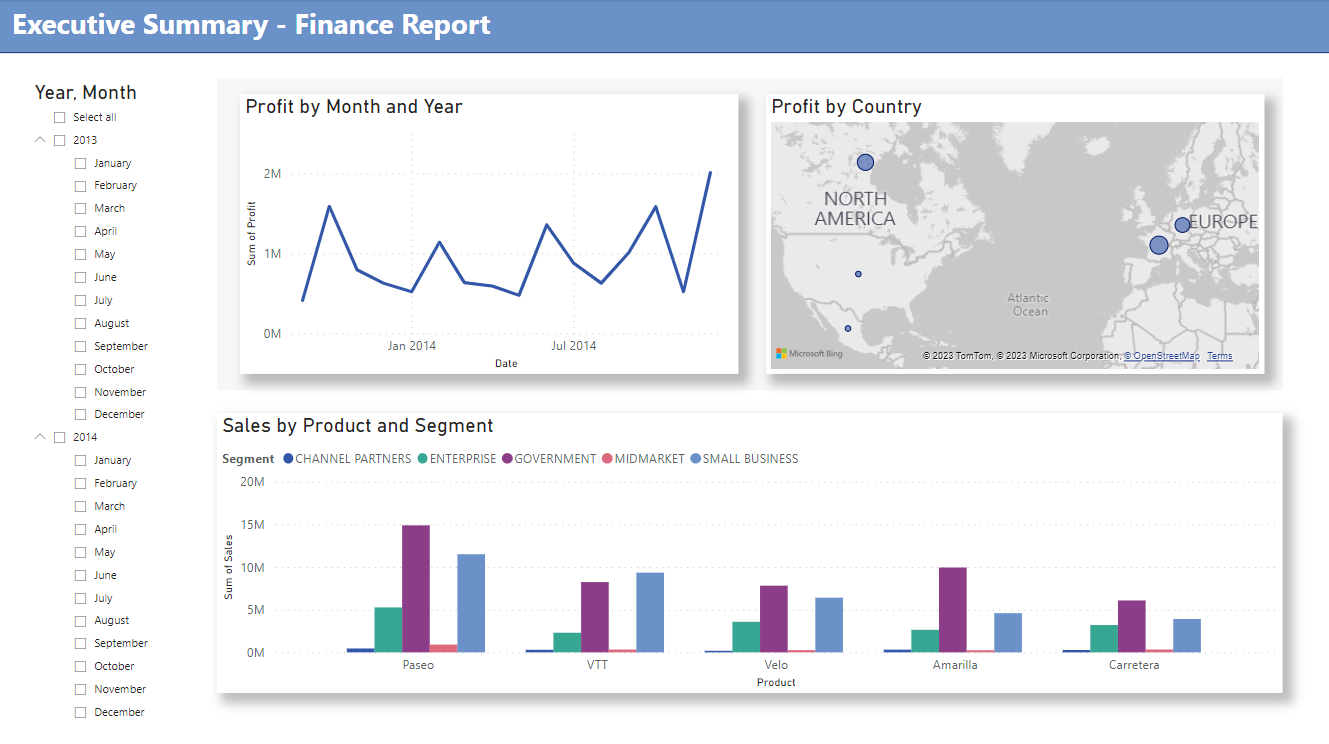

What the dashboard file says about the page in this screenshot:
{"tool":"powerbi","page":{"name":"Page 1","canvas":[1280,720],"ordinal":0},"visuals":[{"type":"shape","box":[209.5,75.9,1024.4,299.8],"z":0},{"type":"shape","box":[0,0,1280,51.9],"z":1000},{"type":"textbox","box":[0,0,1280,51.9],"z":2000},{"type":"lineChart","title":"Profit by Month and Year","fields":{"Category":["Calendar.Date"],"Y":["Sum(financials.Profit)"]},"box":[231.6,91.3,478.6,269.1],"z":3000},{"type":"map","title":"Profit by Country","fields":{"Category":["financials.Country"],"Size":["Sum(financials.Profit)"]},"box":[737.1,91.3,478.6,269.1],"z":4000},{"type":"clusteredColumnChart","title":"Sales by Product and Segment","fields":{"Y":["Sum(financials. Sales)"],"Category":["financials.Product"],"Series":["financials.Segment"]},"box":[209.5,397.8,1024.4,269.1],"z":5000},{"type":"slicer","fields":{"Values":["Calendar.Date.Variation.Date Hierarchy.Year","Calendar.Date.Variation.Date Hierarchy.Month"]},"box":[21.1,73,161.4,634.2],"z":6000}]}

Visuals, with their boxes in screenshot pixels (x1, y1, x2, y2), scaled from the page's 1280x720 canvas onto the 1329x744 screenshot:
shape: {"x1": 218, "y1": 78, "x2": 1281, "y2": 388}
shape: {"x1": 0, "y1": 0, "x2": 1328, "y2": 54}
textbox: {"x1": 0, "y1": 0, "x2": 1328, "y2": 54}
"Profit by Month and Year" lineChart: {"x1": 240, "y1": 94, "x2": 737, "y2": 372}
"Profit by Country" map: {"x1": 765, "y1": 94, "x2": 1262, "y2": 372}
"Sales by Product and Segment" clusteredColumnChart: {"x1": 218, "y1": 411, "x2": 1281, "y2": 689}
slicer - Calendar.Date.Variation.Date Hierarchy.Year x Calendar.Date.Variation.Date Hierarchy.Month: {"x1": 22, "y1": 75, "x2": 189, "y2": 731}
